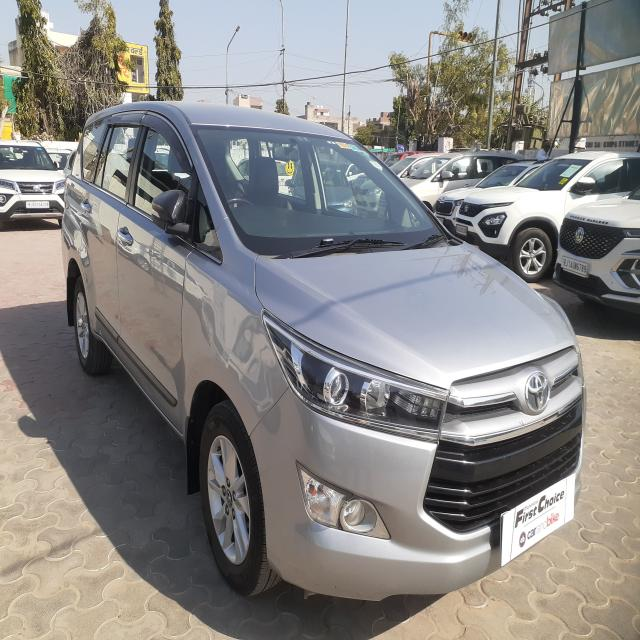light_vehicle: (58, 99, 588, 603)
